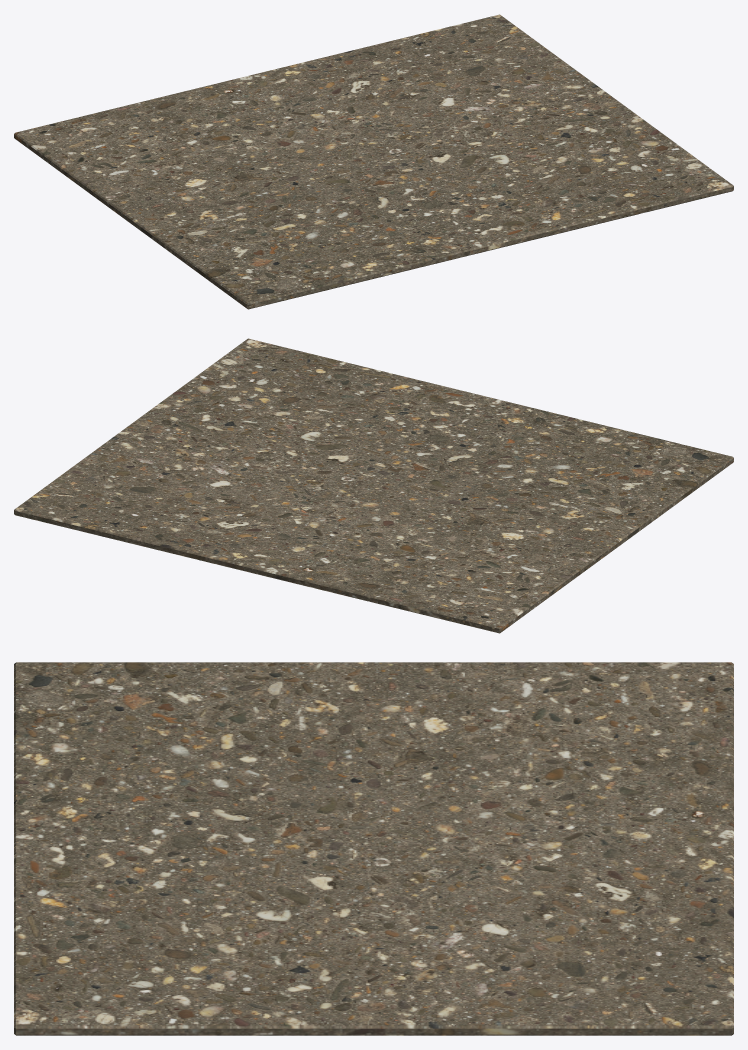
File: Airfield_Runway_Slab_HQ23_LOD2.glb
3 renders of one model, top to bottom at view 1: azimuth 30°, elevation 25°; view 2: azimuth 150°, elevation 25°; view 3: azimuth 270°, elevation 25°, orthographic. The views are drawn at different scales.
Parts seen in each view (by area): view 1: Airfield Runway Slab 15x18 LOD2; view 2: Airfield Runway Slab 15x18 LOD2; view 3: Airfield Runway Slab 15x18 LOD2.
Boxes of the visible parts, left/top/right/bottom form: Airfield Runway Slab 15x18 LOD2: left=14, top=14, right=733, bottom=309; Airfield Runway Slab 15x18 LOD2: left=14, top=338, right=733, bottom=633; Airfield Runway Slab 15x18 LOD2: left=14, top=662, right=733, bottom=1035.
Size of the model in its own units: 18 by 0.22 by 15.
1 material, 1 textured.
